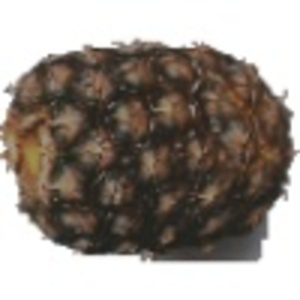abacaxi: (1, 36, 294, 253)
